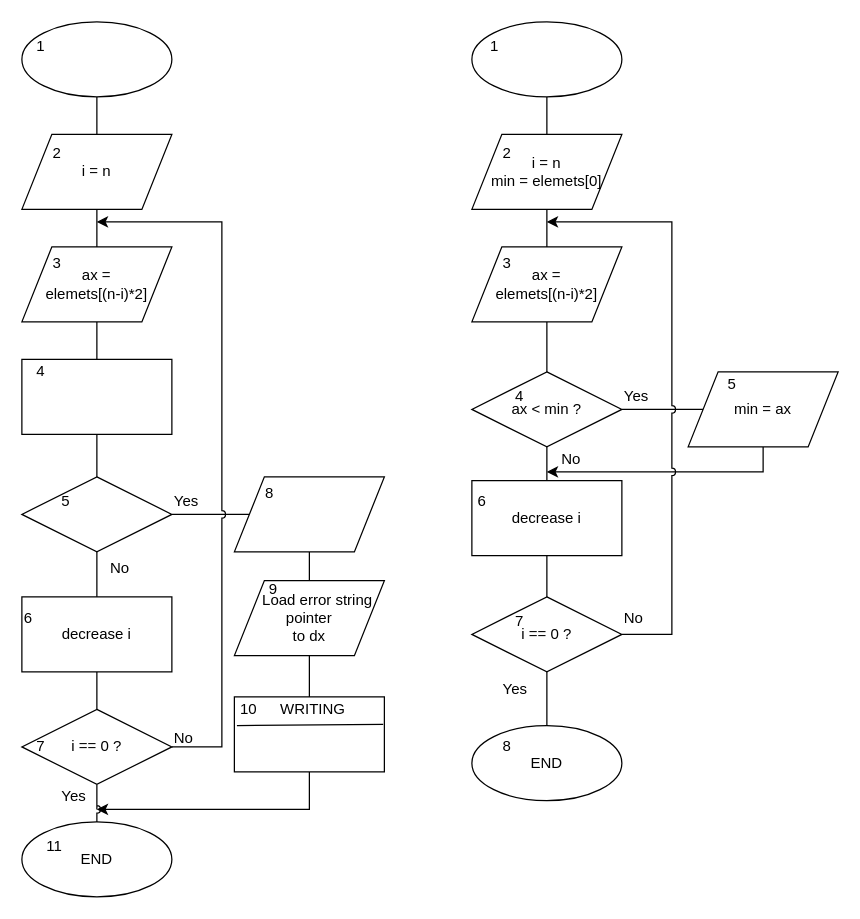
Image size: 860x919. Some labels were removed from this diagram. Here are the shapes that lost their labels. From the top down, the box of each, then its label:
(21, 21, 172, 97): ARRAY_SUM
(471, 21, 622, 97): ARRAY_MIN
(21, 358, 172, 434): sum += ax
(21, 476, 172, 552): Was overflow?
(233, 476, 384, 552): was_overflow = 1
(233, 696, 384, 772): Displays a string, pointer is stored in dx
